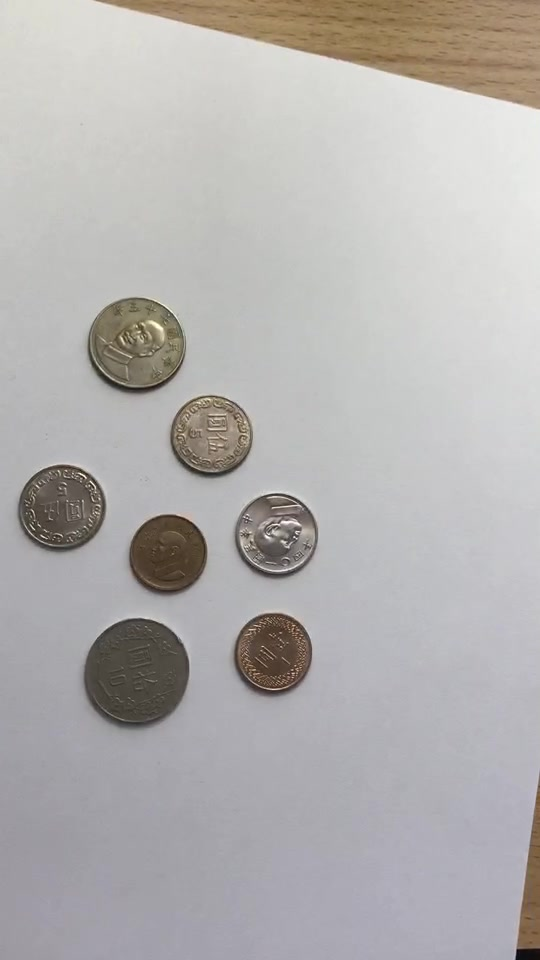1 dallar: (118, 510, 218, 599), (225, 607, 325, 696)
10 dallar: (77, 606, 192, 733), (84, 292, 193, 390)
5 dallar: (7, 458, 111, 560), (158, 385, 262, 487), (228, 481, 332, 583)
